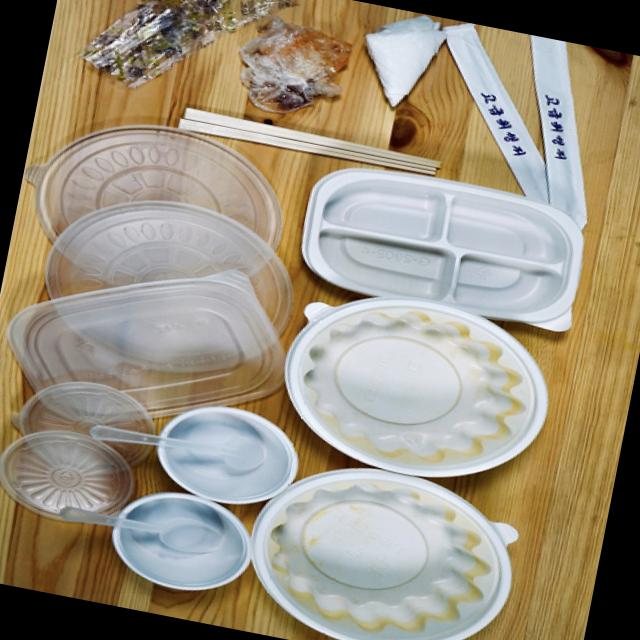paper: (437, 24, 592, 223)
plastic-bag: (72, 0, 307, 94)
plastic-bowl: (275, 288, 563, 491), (296, 161, 590, 346), (31, 195, 312, 384), (237, 460, 531, 640), (18, 112, 286, 300), (0, 268, 292, 431), (99, 487, 270, 594), (150, 402, 309, 512), (0, 379, 166, 477), (0, 425, 137, 533)
plastic-spoon: (45, 502, 229, 567), (80, 420, 264, 480)
trash: (230, 19, 356, 119), (353, 15, 440, 121)
wooden chopsticks: (167, 102, 446, 181)
